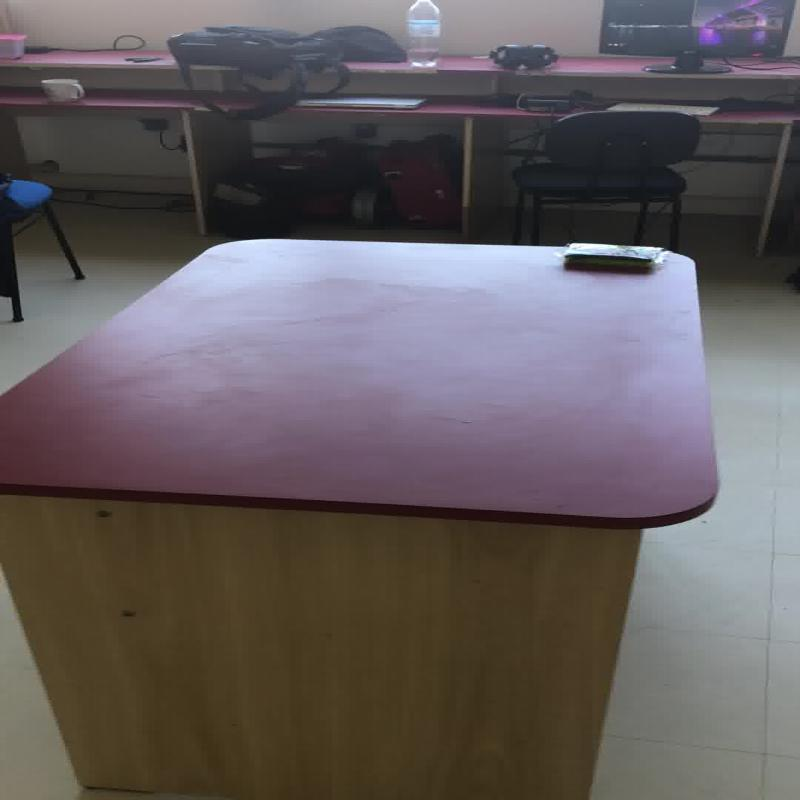sponge: (561, 241, 666, 267)
